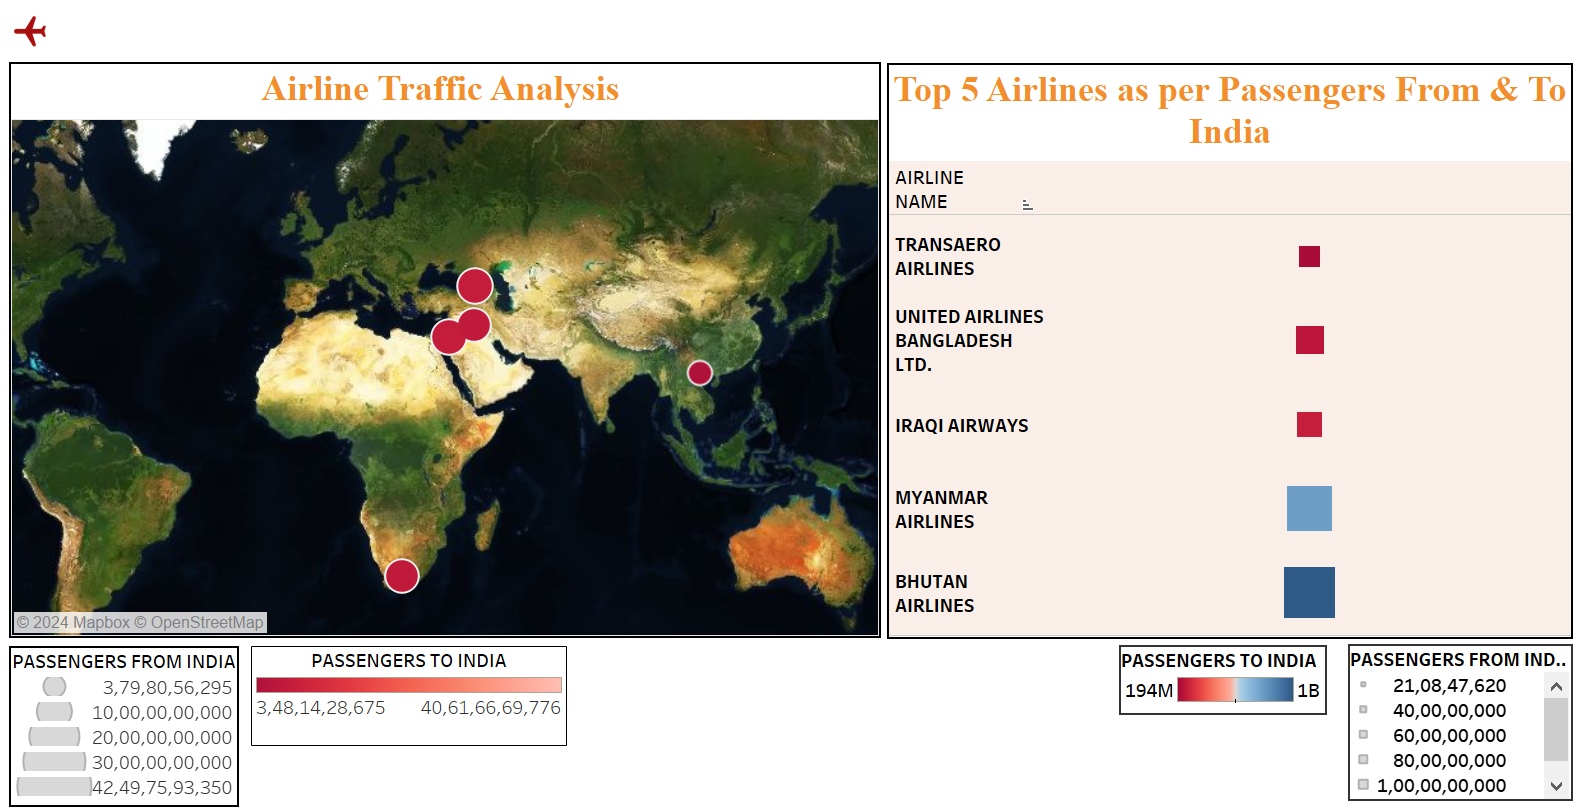

Layout of this report page (visuals, bound fields, positions):
{"tool":"tableau","page":{"name":"Airline Traffic Analysis Dashboard 3","canvas":[1000,1000],"units":"permille","ordinal":2},"visuals":[{"type":"dashboard-object","box":[0,8.6,41.8,63.6]},{"type":"worksheet","title":"Airline Traffic Analysis :","mark":"Automatic","box":[9.3,78.2,543.6,704.2]},{"type":"worksheet","title":"Top 5 Airlines as per Passengers from and to India :","mark":"Automatic","rows":["AIRLINE NAME"],"box":[556.7,79.5,427.7,704.2]},{"type":"legend","title":"Top 5 Airlines as per Passengers from and to India :","param":"[federated.1ru3y5c15001as1cl7j0p1n24gp6].[sum:PASSENGERS FROM INDIA:qk]","box":[844.1,789.7,140.3,191.9]},{"type":"legend","title":"Top 5 Airlines as per Passengers from and to India :","param":"[federated.1ru3y5c15001as1cl7j0p1n24gp6].[sum:PASSENGERS TO INDIA:qk]","box":[701.4,791,129.7,85.6]},{"type":"legend","title":"Airline Traffic Analysis :","param":"[federated.1ru3y5c15001as1cl7j0p1n24gp6].[sum:PASSENGERS FROM INDIA:qk]","box":[9.3,792.2,143.4,196.8]},{"type":"legend","title":"Airline Traffic Analysis :","param":"[federated.1ru3y5c15001as1cl7j0p1n24gp6].[sum:PASSENGERS TO INDIA:qk]","box":[160.2,792.2,197,122.2]}]}

Visuals, with their boxes on the dashboard's canvas, which has no fixed pixel size, in thousandths of its width and height (x1, y1, x2, y2). These are canvas units, not pixel positions in the 1582x811 screenshot, which may show the page scaled, cropped or inside an application window:
dashboard-object: Rect(0, 9, 42, 72)
"Airline Traffic Analysis :" worksheet: Rect(9, 78, 553, 782)
"Top 5 Airlines as per Passengers from and to India :" worksheet: Rect(557, 80, 984, 784)
"Top 5 Airlines as per Passengers from and to India :" legend: Rect(844, 790, 984, 982)
"Top 5 Airlines as per Passengers from and to India :" legend: Rect(701, 791, 831, 877)
"Airline Traffic Analysis :" legend: Rect(9, 792, 153, 989)
"Airline Traffic Analysis :" legend: Rect(160, 792, 357, 914)
